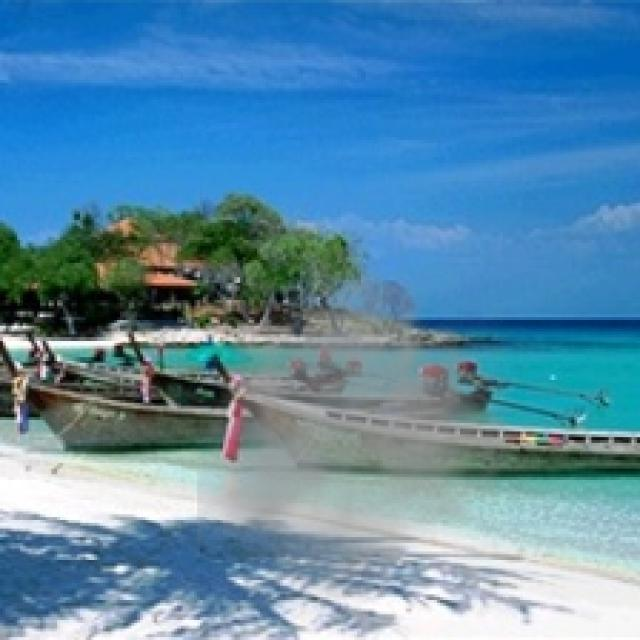Smoke: (197, 255, 546, 620)
